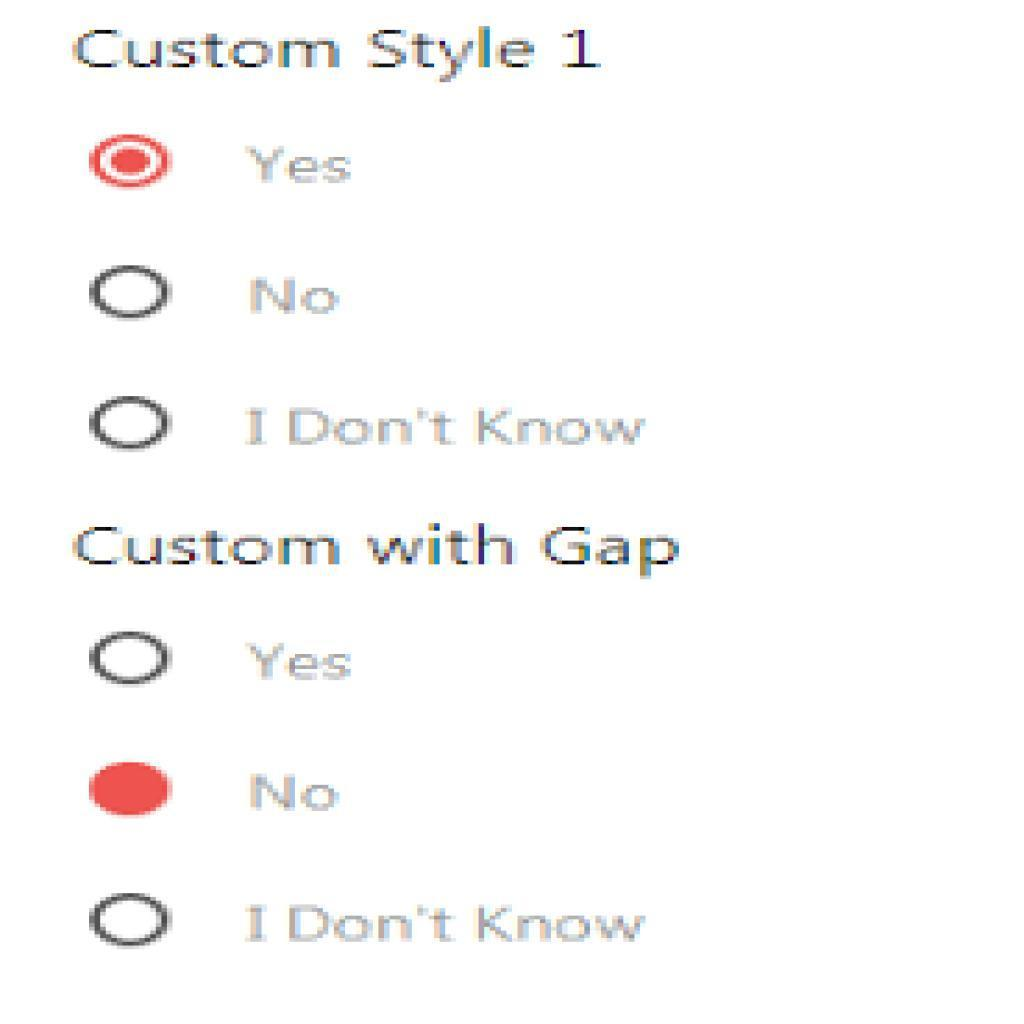radio: (75, 384, 180, 460), (83, 624, 183, 696), (80, 256, 178, 329), (82, 759, 183, 828), (83, 124, 180, 192), (79, 889, 184, 950)
